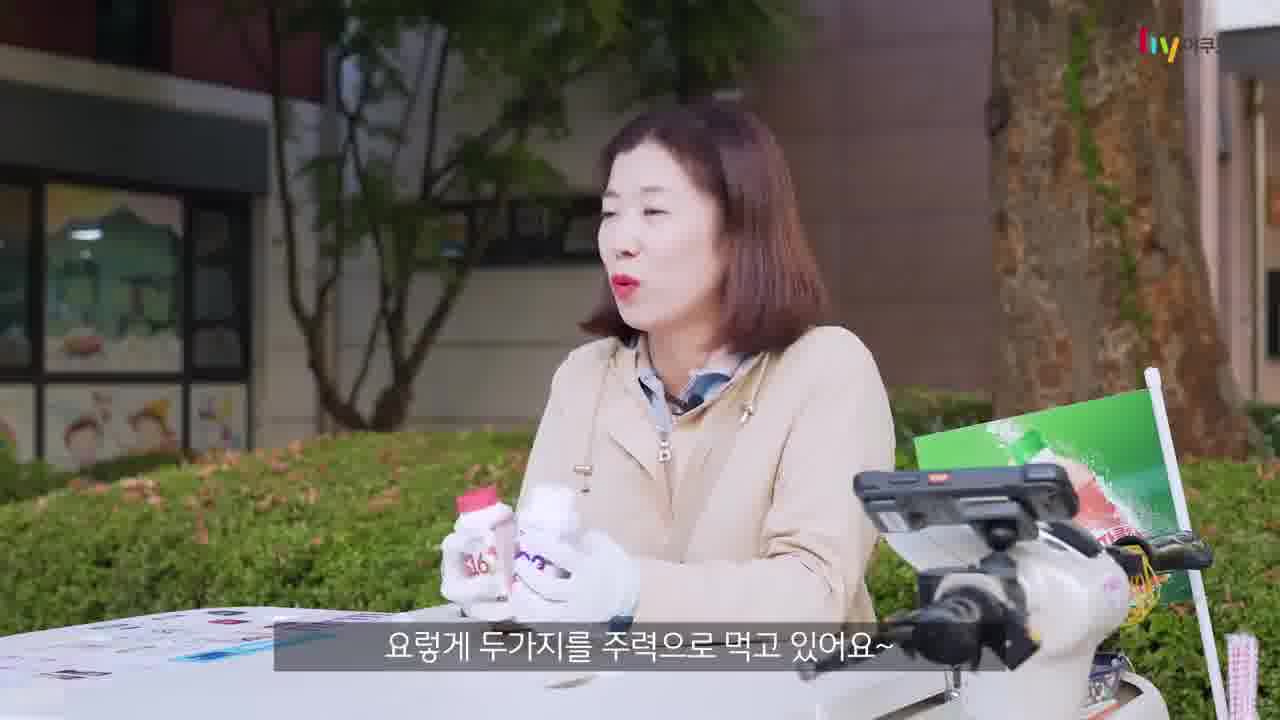Yakurut: (410, 83, 920, 638)
